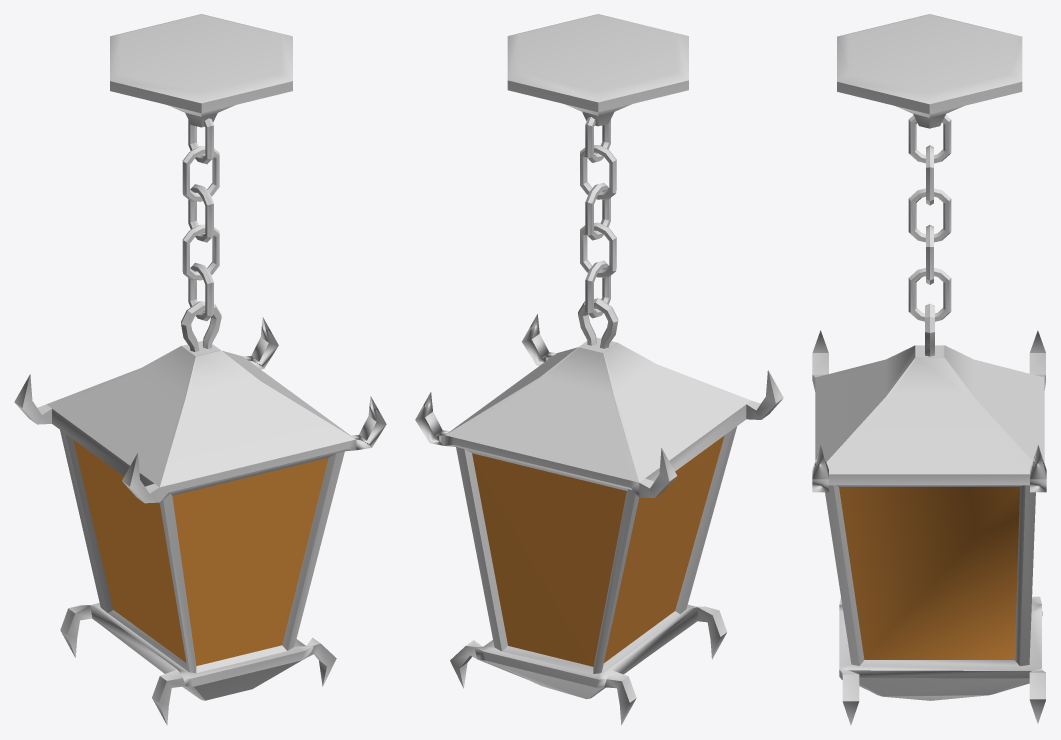
The model's file is Lamp.fbx.
3 renders of one model, left to right at view 1: azimuth 30°, elevation 25°; view 2: azimuth 150°, elevation 25°; view 3: azimuth 270°, elevation 25°, orthographic. The views are drawn at different scales.
Visible parts, largest first — view 1: SM_Stylized_Lamp_C_LOD0; view 2: SM_Stylized_Lamp_C_LOD0; view 3: SM_Stylized_Lamp_C_LOD0.
Boxes of the visible parts, <box> form: SM_Stylized_Lamp_C_LOD0: <box>14,14,386,725</box>; SM_Stylized_Lamp_C_LOD0: <box>415,14,783,725</box>; SM_Stylized_Lamp_C_LOD0: <box>812,14,1046,725</box>.
Size of the model in its own units: 184 by 439 by 144.
